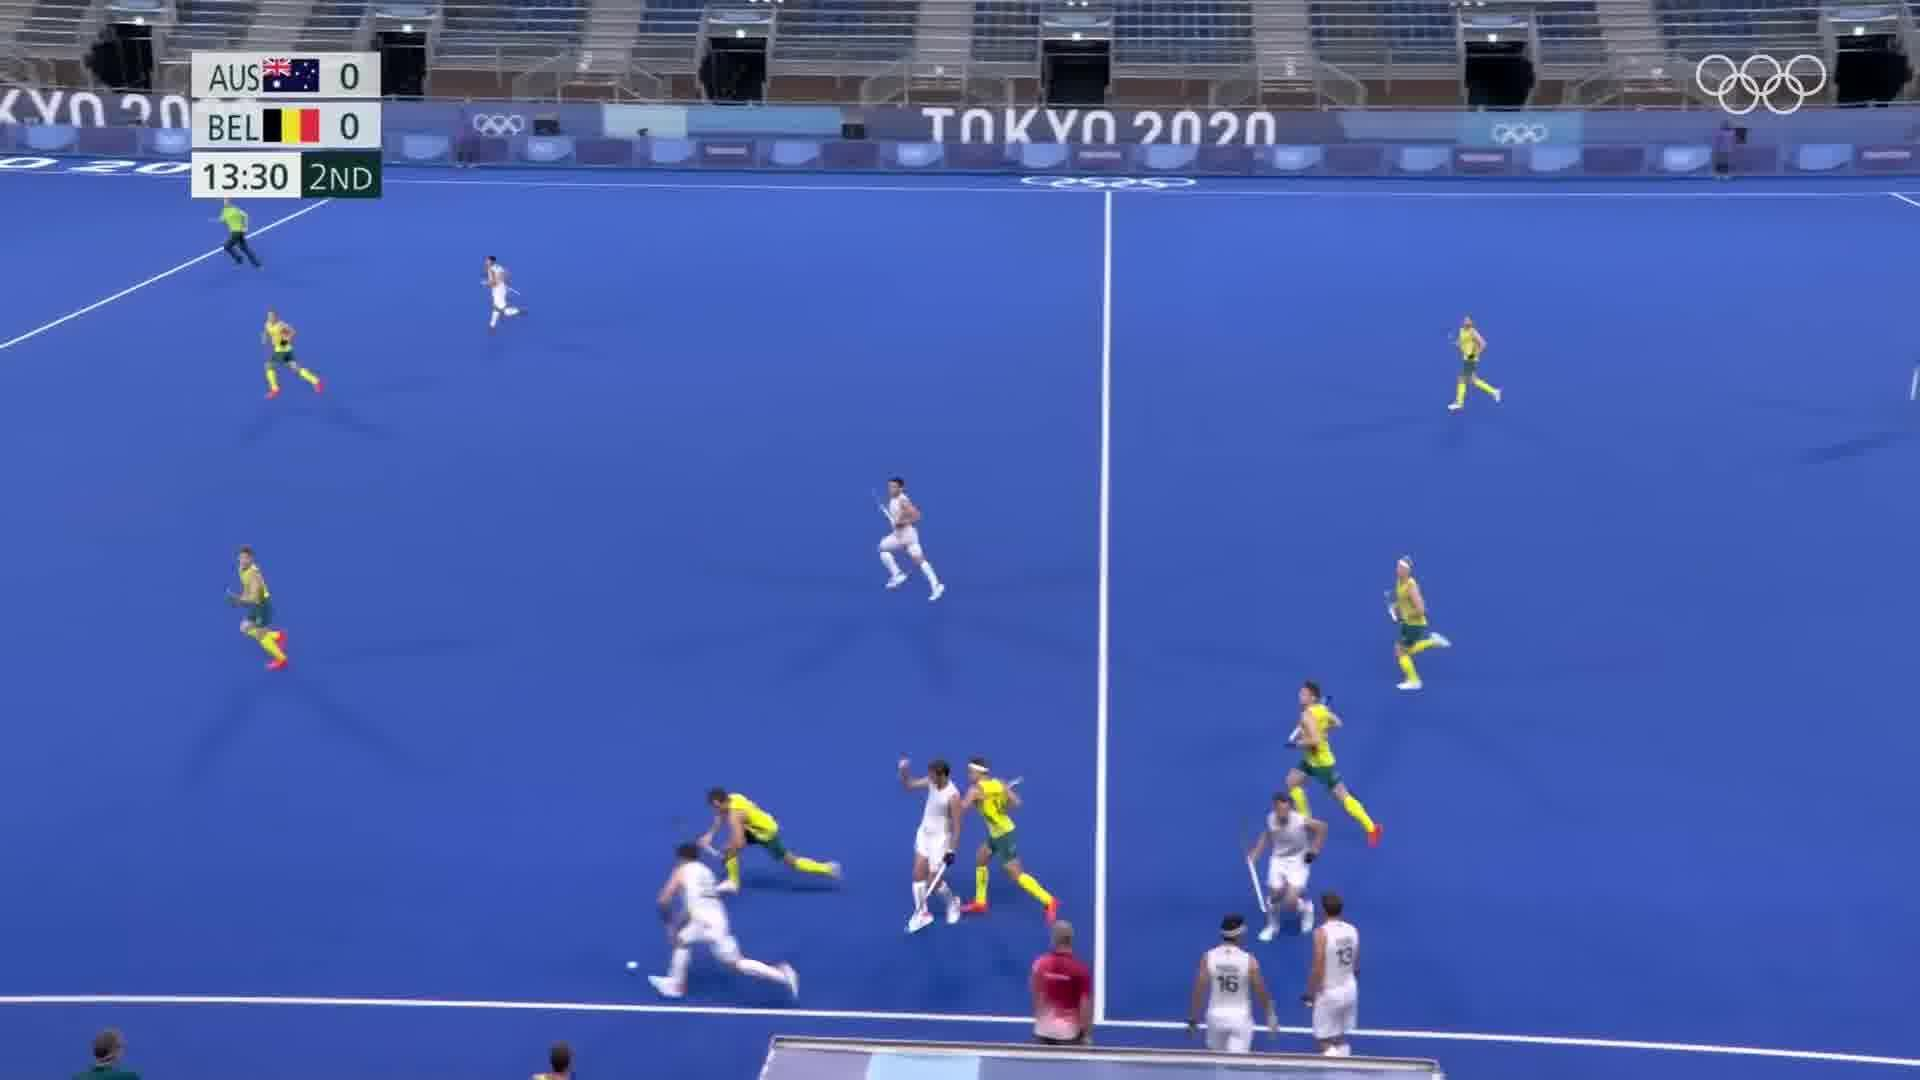ball: (617, 945, 650, 982)
